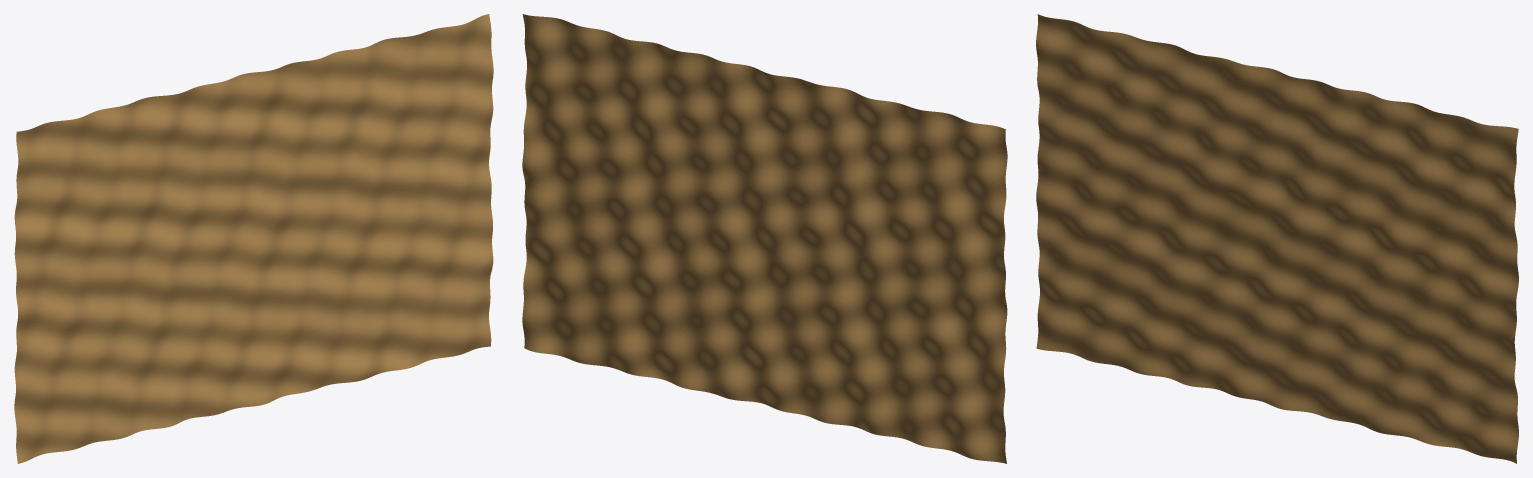
File: sand_dunes_terrain.obj
The picture shows the model from 3 angles, left to right: view 1: azimuth 30°, elevation 25°; view 2: azimuth 150°, elevation 25°; view 3: azimuth 330°, elevation 25°; orthographic projection.
Parts seen in each view (by area): view 1: sand_dunes_terrain; view 2: sand_dunes_terrain; view 3: sand_dunes_terrain.
Part boxes in pixels (x1,y1,x2,y2): sand_dunes_terrain: (14,14,493,463); sand_dunes_terrain: (522,14,1007,463); sand_dunes_terrain: (1036,14,1518,463).
Size of the model in its own units: 30 by 20 by 0.5843.
